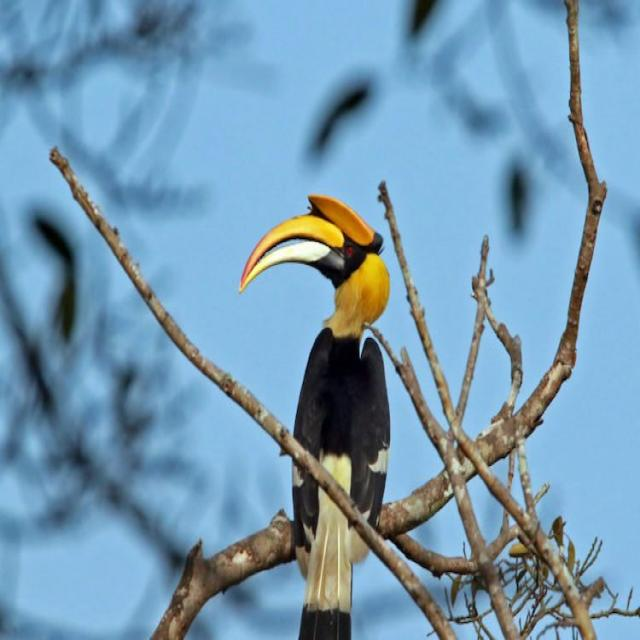Hornbill: (244, 175, 398, 638)
